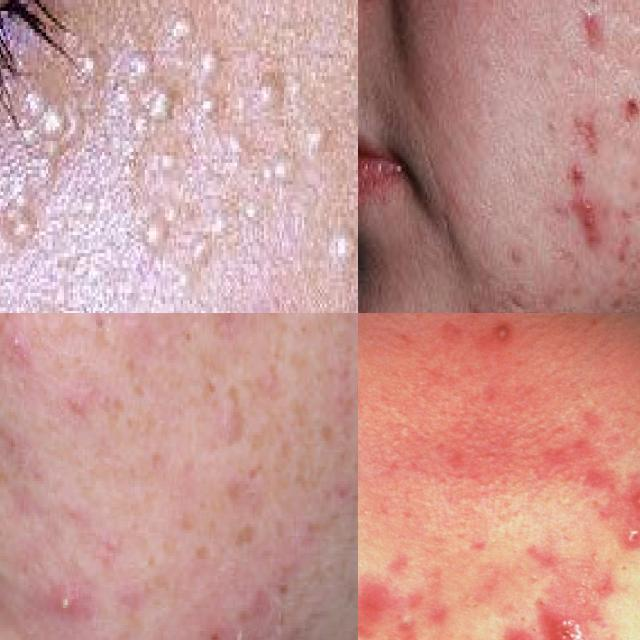acne_scars: (580, 104, 609, 169)
crystanlline: (566, 192, 610, 257)
milium: (75, 0, 230, 144), (127, 141, 221, 274), (246, 65, 331, 205), (1, 80, 69, 253), (317, 217, 358, 279)
papule: (563, 0, 623, 54), (488, 620, 545, 640)
pustule: (494, 313, 529, 353), (386, 609, 428, 639), (631, 481, 640, 516)
sebo-crystan-conglo: (552, 618, 600, 640)
